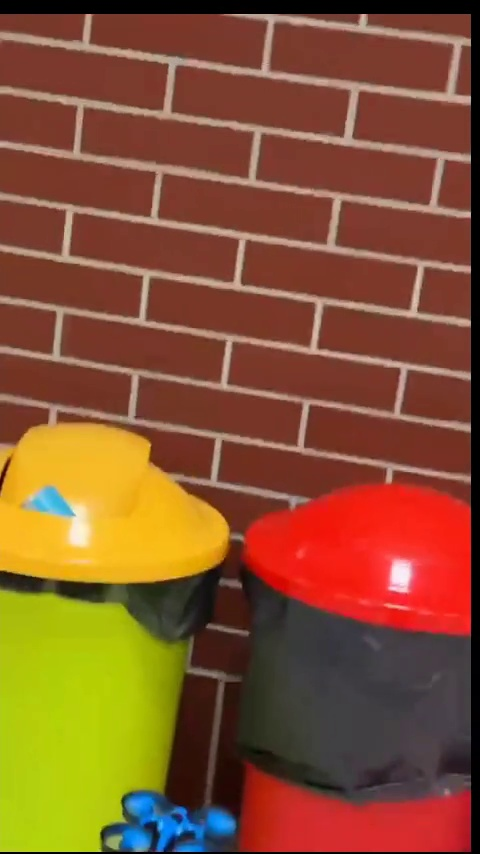drone: (98, 791, 236, 852)
